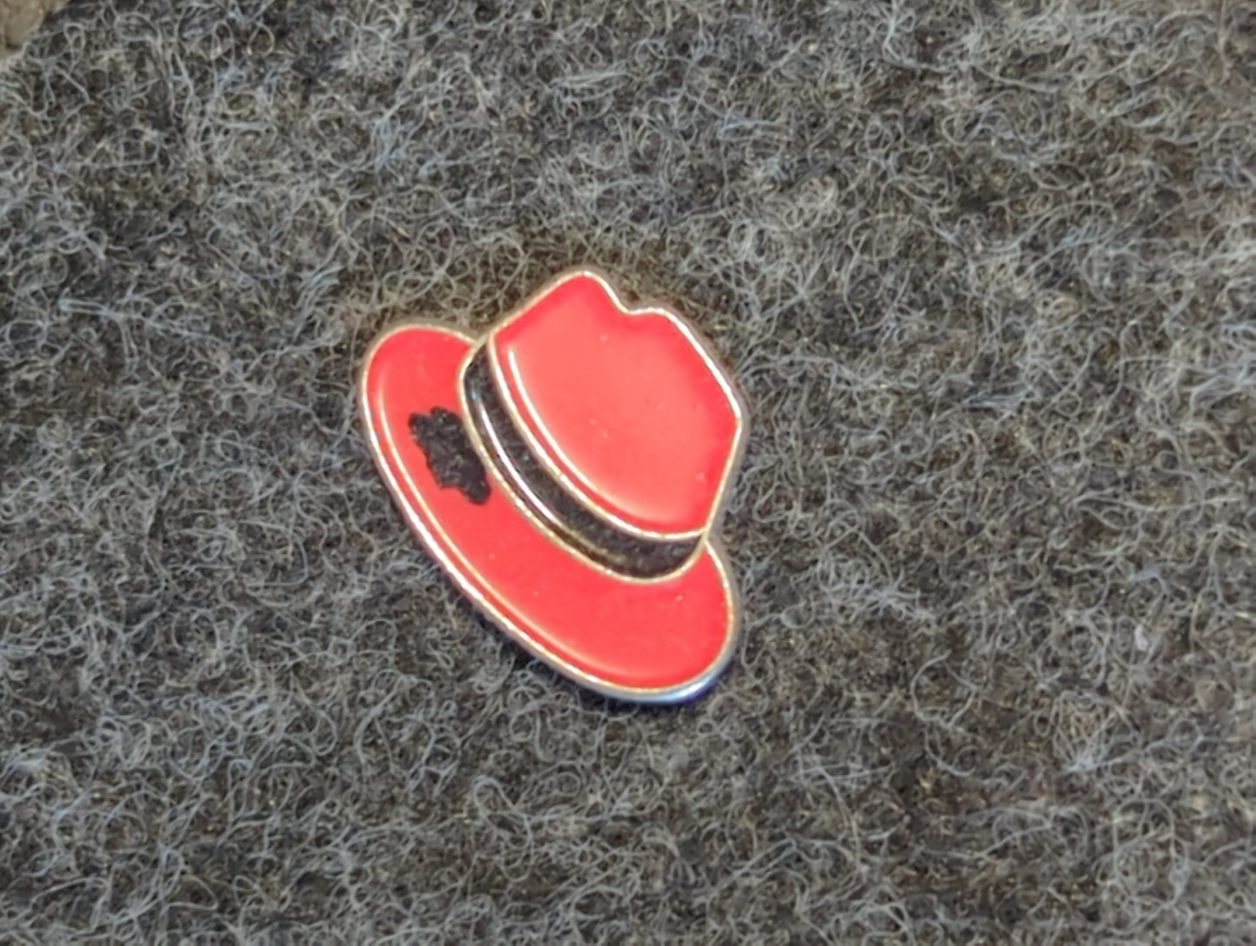Red-Hat: (287, 213, 907, 759)
Scratch: (371, 372, 542, 527)
